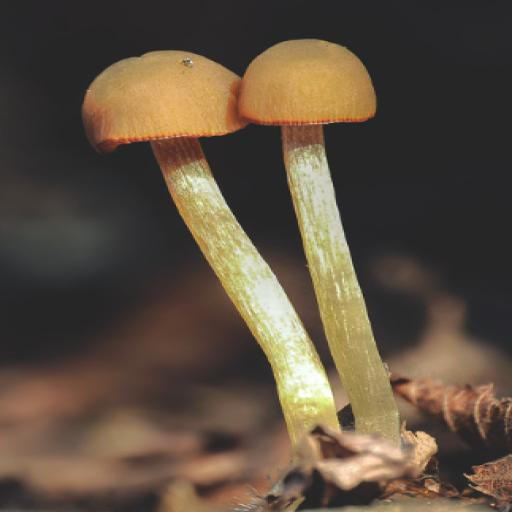mushroom: (61, 31, 398, 302)
